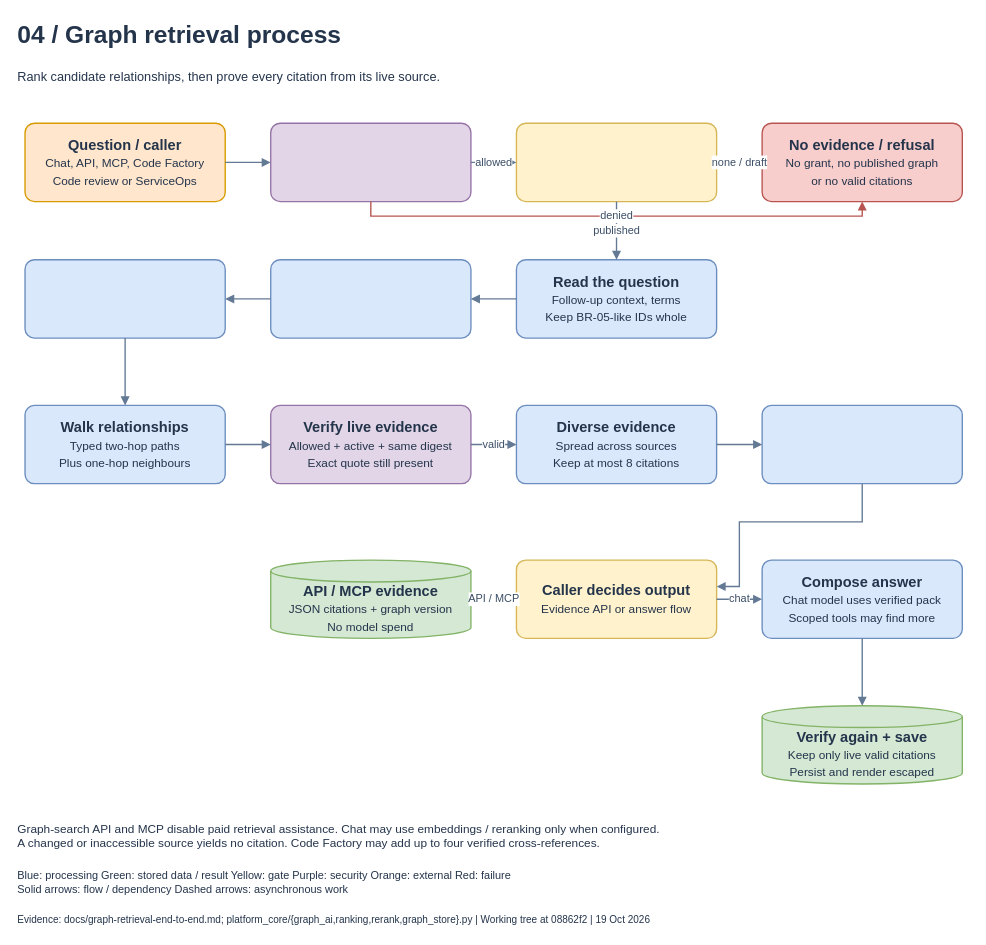
The diagram is 986 pixels wide and 945 high, and some of its shapes have lost their labels. Here are the shapes that lost their labels. From the top down, the box of each, then its label:
(270, 122, 471, 202): Application access Grant + feature checks Scope fixed before retrieval
(515, 122, 717, 202): Published version Latest or conversation-pinned Drafts refused
(24, 259, 225, 338): Fuse by meaning Optional query embedding Owner-enabled paid help
(270, 259, 471, 338): Rank by words Coverage then BM25 Rows or JSON snapshot
(761, 404, 963, 484): Optional reranking Model reorders IDs only Cannot invent evidence
